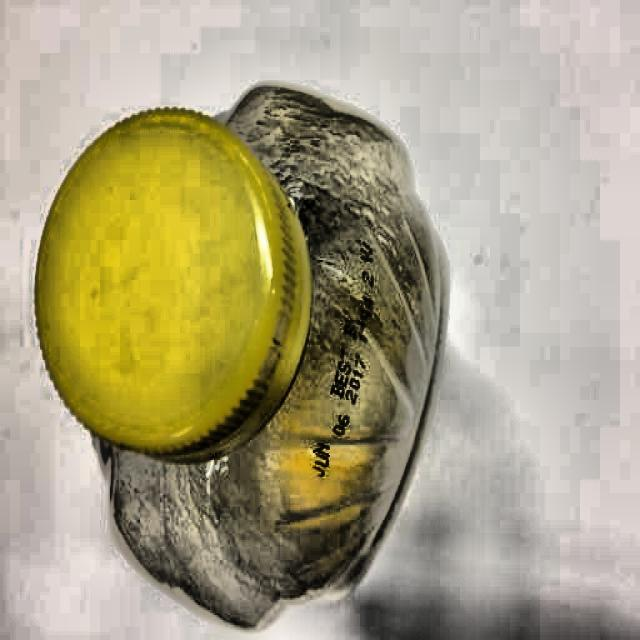plastic: (25, 85, 435, 622)
